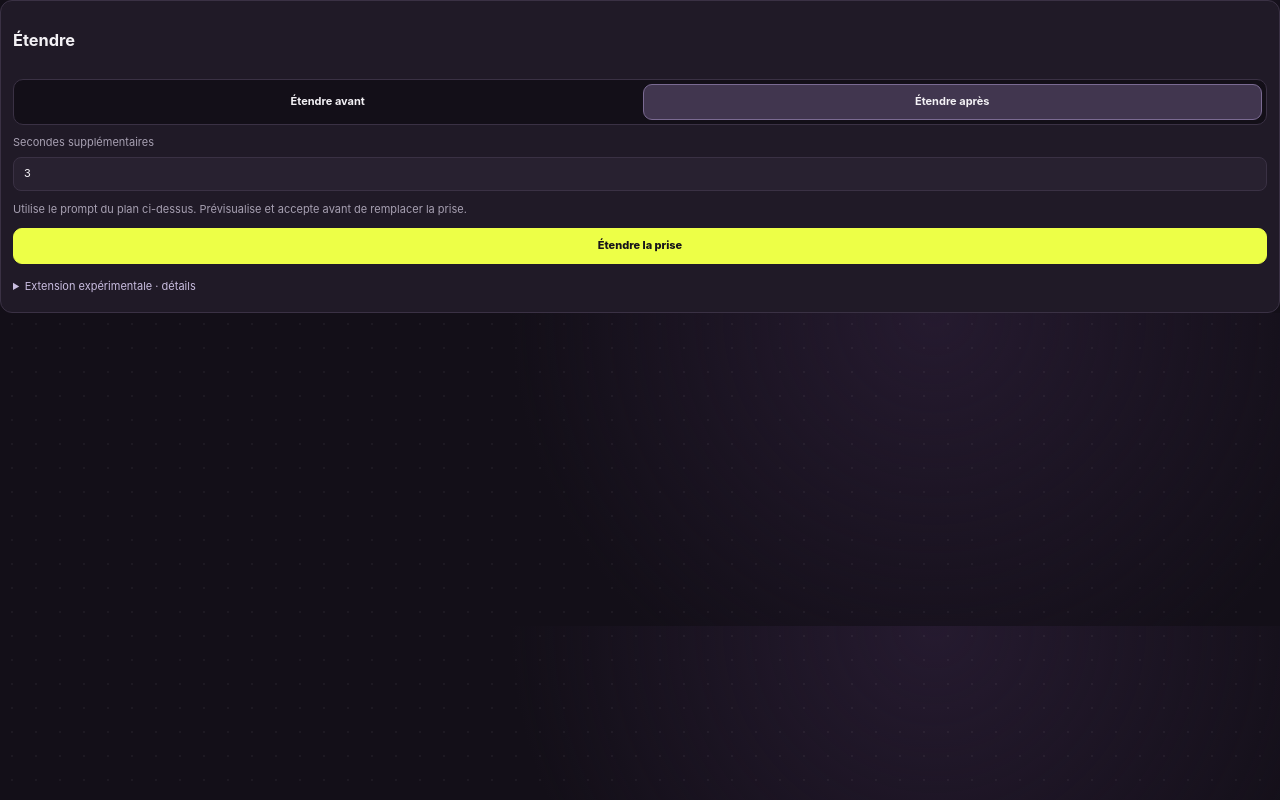
French extension controls submit a new duration and surface failures
Click the button "Étendre avant".
click(328, 102)  # box [18,84,638,120]
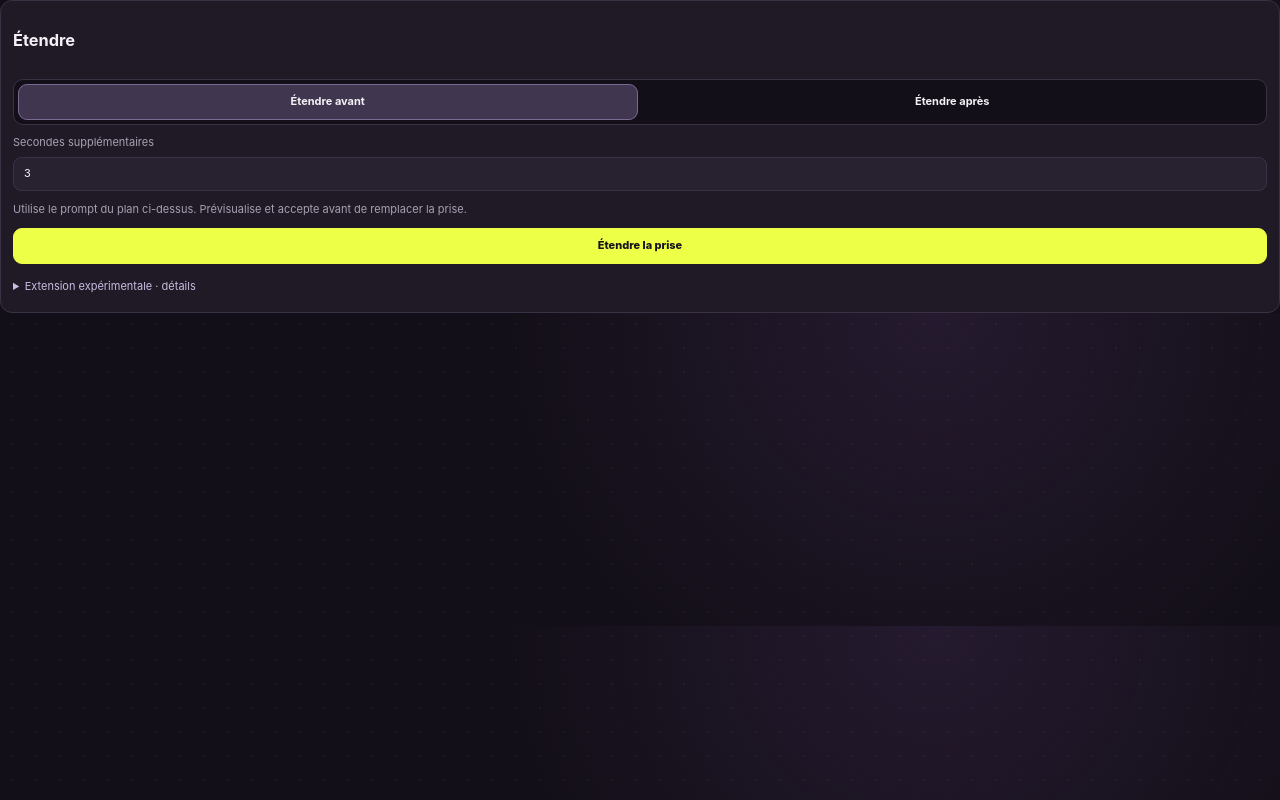
Replace the text in the number field labelled "Secondes supplémentaires" with "2" at (640, 174), box [13,157,1267,191]
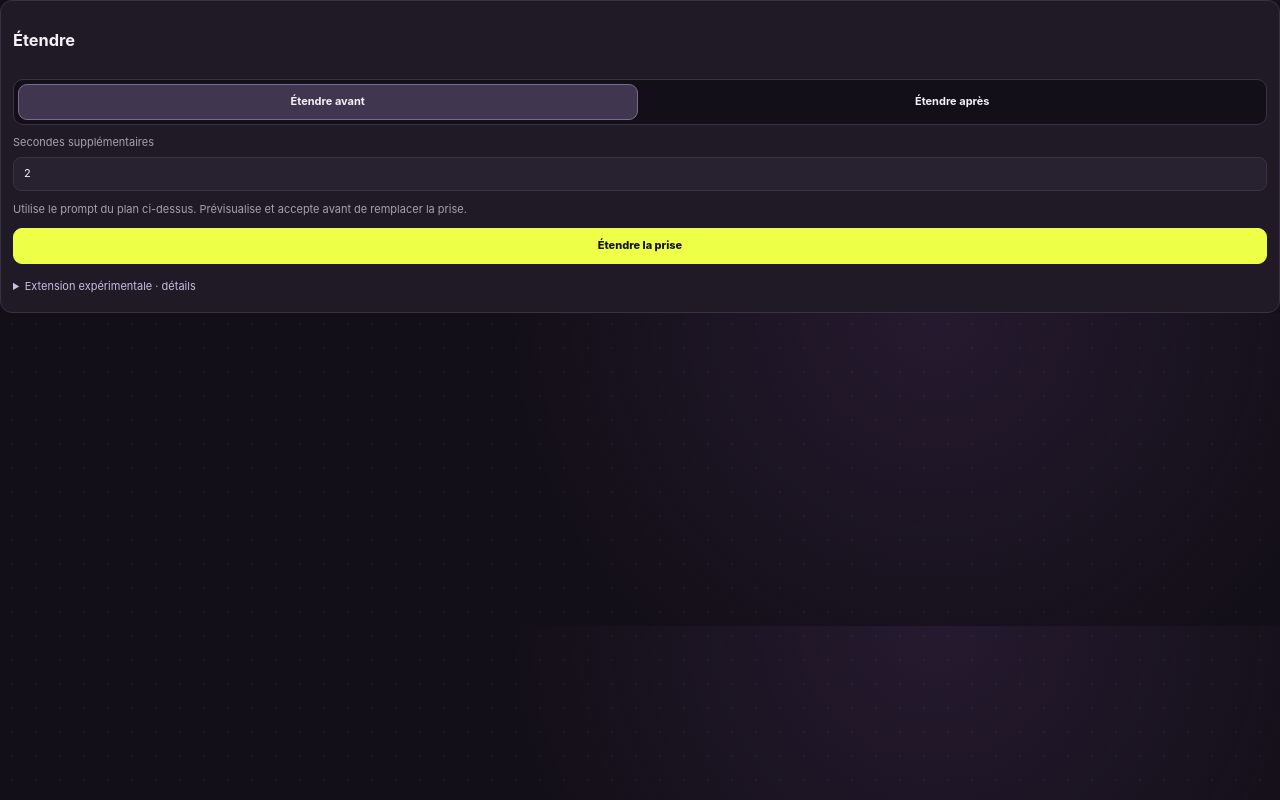
Click the button "Étendre la prise".
click(640, 246)  # box [13,228,1267,264]
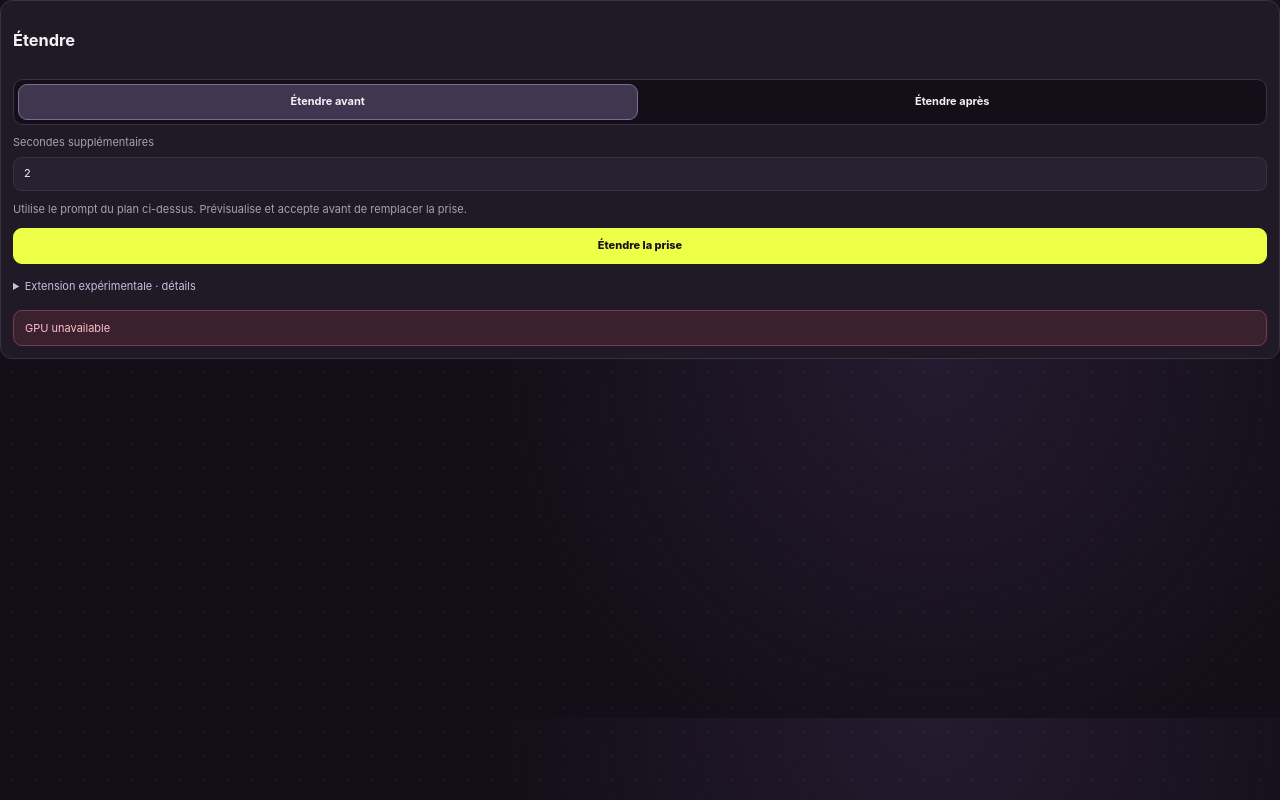
Expected: the message reads "GPU unavailable", [25,321,110,335]
